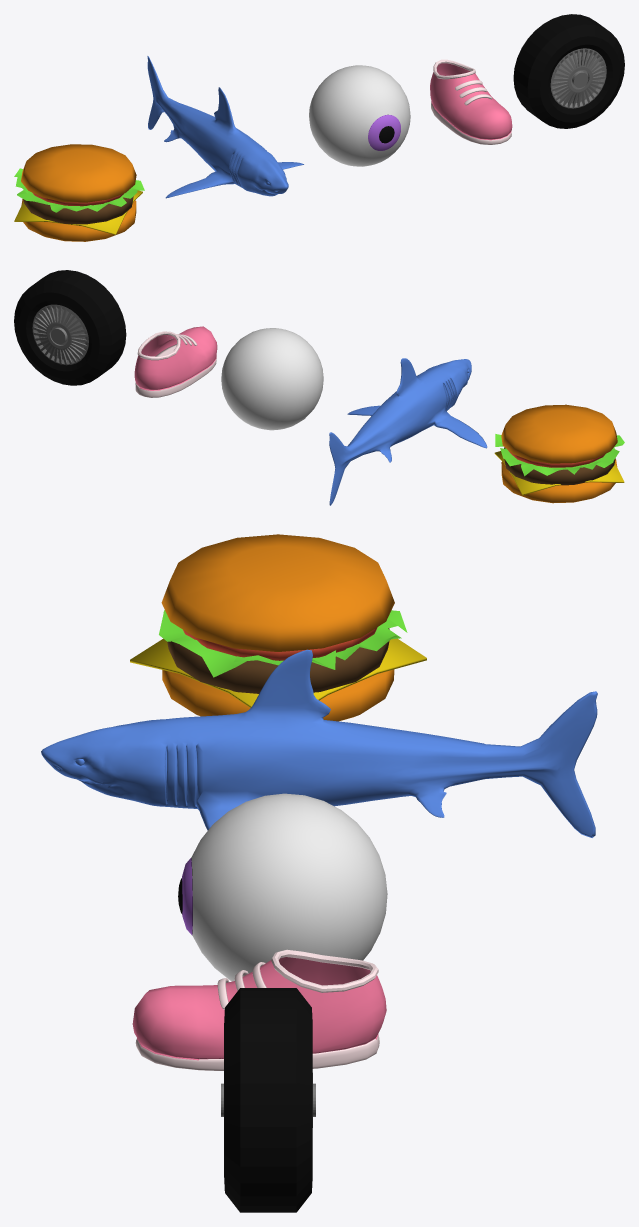
Rendered from Items_1.FBX.
3 renders of one model, top to bottom at view 1: azimuth 30°, elevation 25°; view 2: azimuth 150°, elevation 25°; view 3: azimuth 270°, elevation 25°, orthographic. The views are drawn at different scales.
Visible parts, largest first — view 1: Hamburger, Tire, Eye, Shark, Shoe_1; view 2: Hamburger, Tire, Eye, Shark, Shoe_1; view 3: Shark, Hamburger, Eye, Tire, Shoe_1.
Boxes of the visible parts, x1,y1,x2,y2 form: Hamburger: (14,144,144,241); Tire: (513,14,624,128); Eye: (309,65,410,166); Shark: (147,56,303,198); Shoe_1: (430,59,512,144); Hamburger: (494,404,624,503); Tire: (14,270,126,385); Eye: (221,328,323,430); Shark: (329,358,487,505); Shoe_1: (134,326,217,397); Shark: (41,649,597,837); Hamburger: (130,534,426,721); Eye: (178,793,387,981); Tire: (221,988,315,1212); Shoe_1: (132,949,386,1070).
Bounding box in the file's own units: 1235 × 217 × 495.
